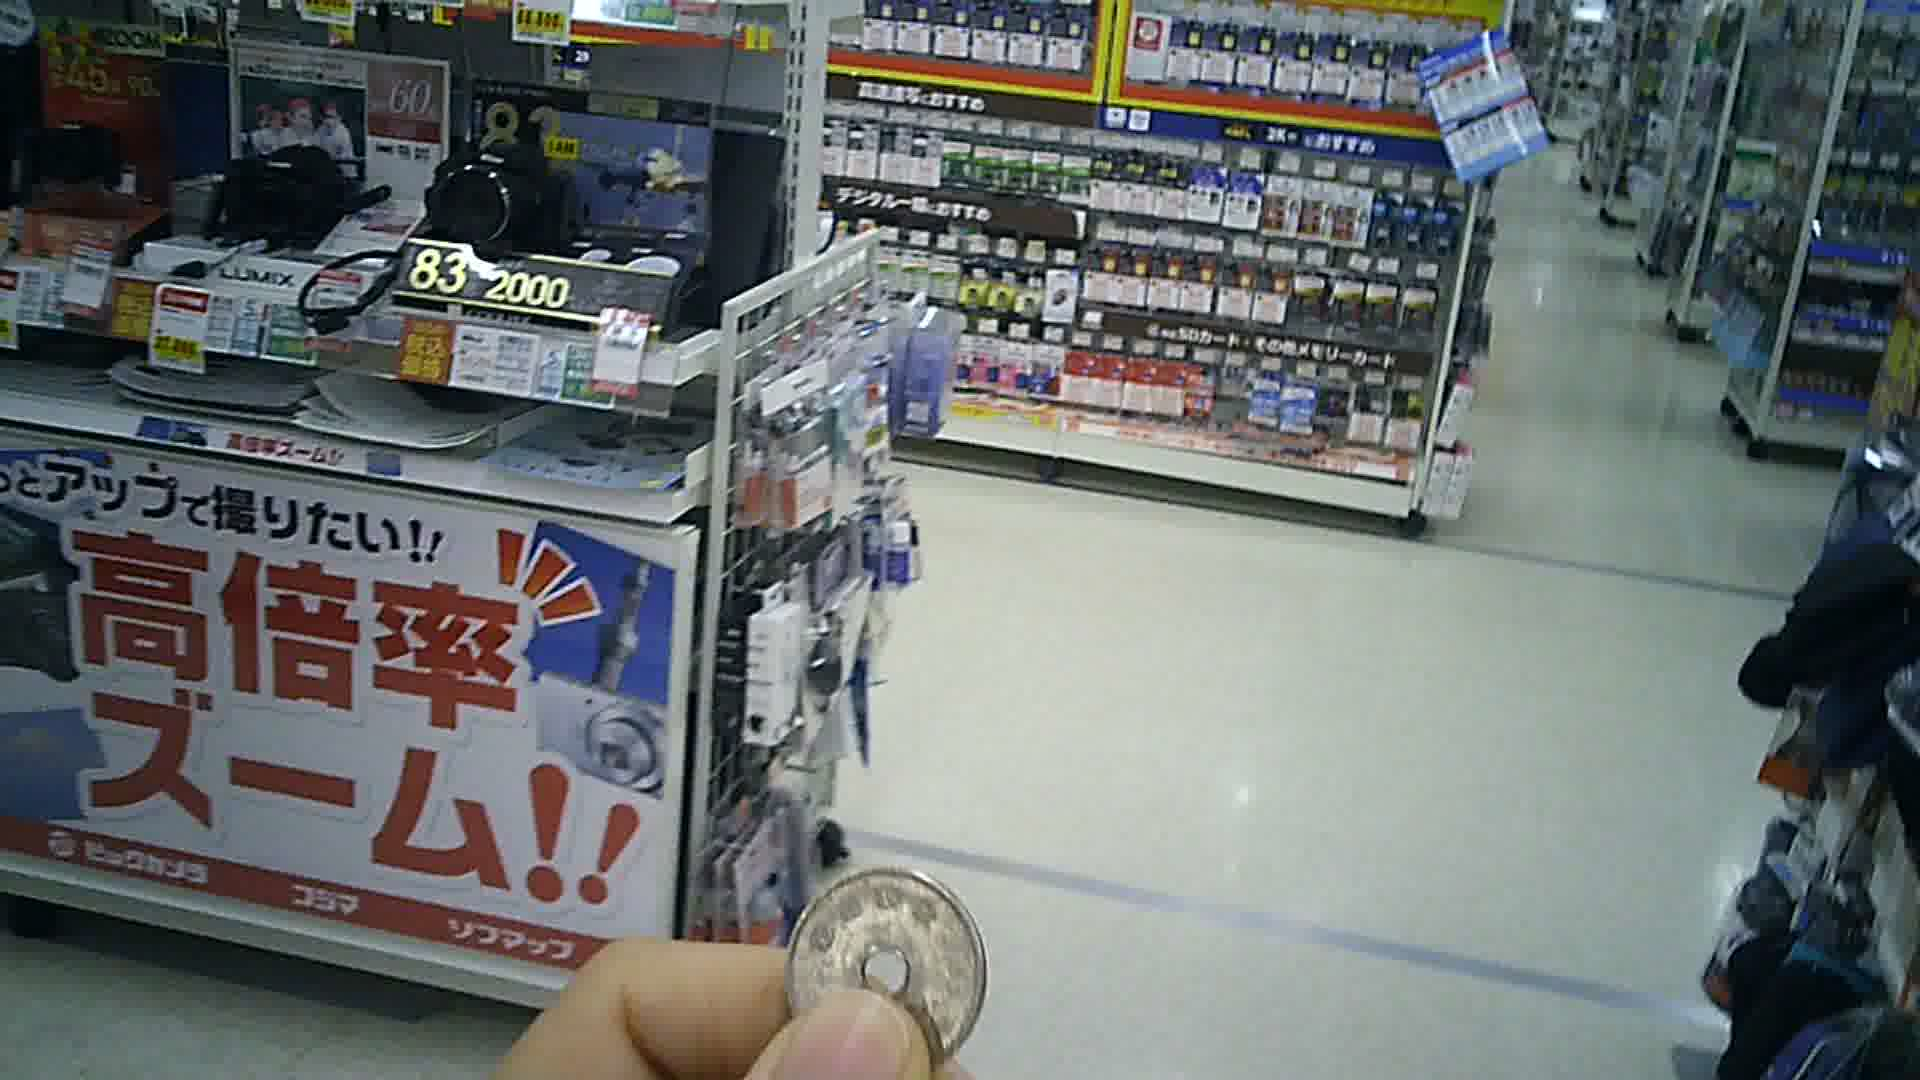50 Yen: (786, 865, 994, 1069)
